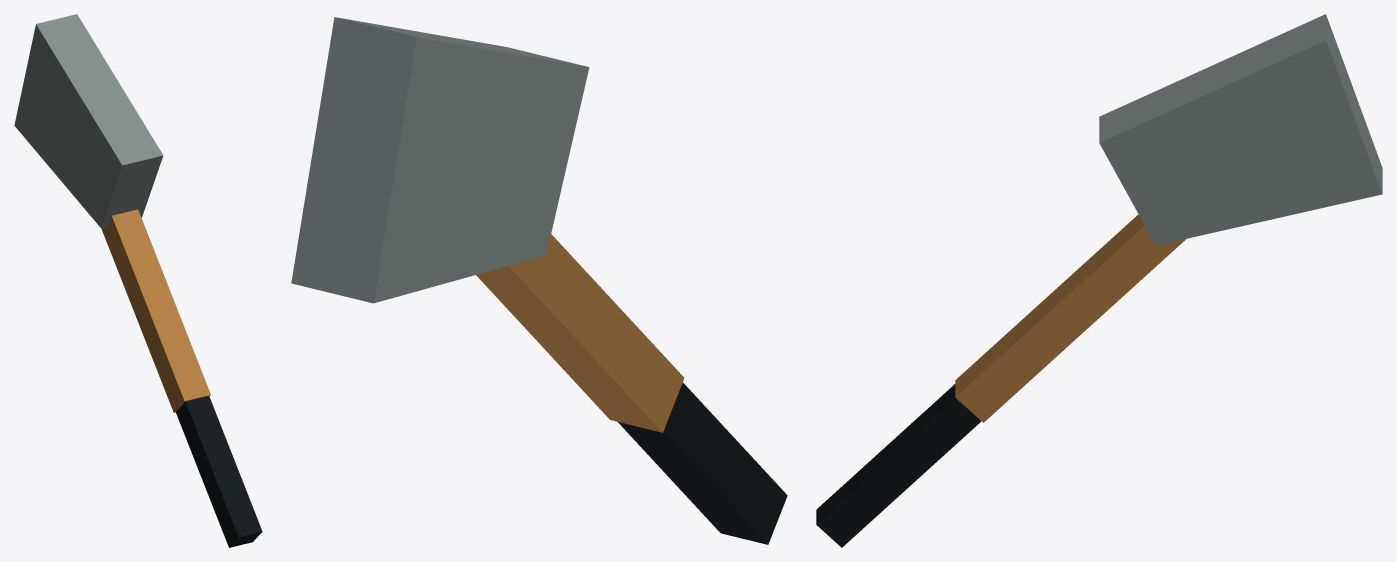
3 views of the same model, side by side, from view 1: azimuth 30°, elevation 25°; view 2: azimuth 150°, elevation 25°; view 3: azimuth 270°, elevation 25° (orthographic). The views are drawn at different scales.
Visible parts, largest first — view 1: mount; view 2: mount; view 3: mount.
Part boxes in pixels (bbox=[...]): mount: bbox=[14, 14, 262, 547]; mount: bbox=[291, 17, 787, 544]; mount: bbox=[816, 14, 1382, 547].
Bounding box in the file's own units: 1.1 × 9.99 × 9.99.
